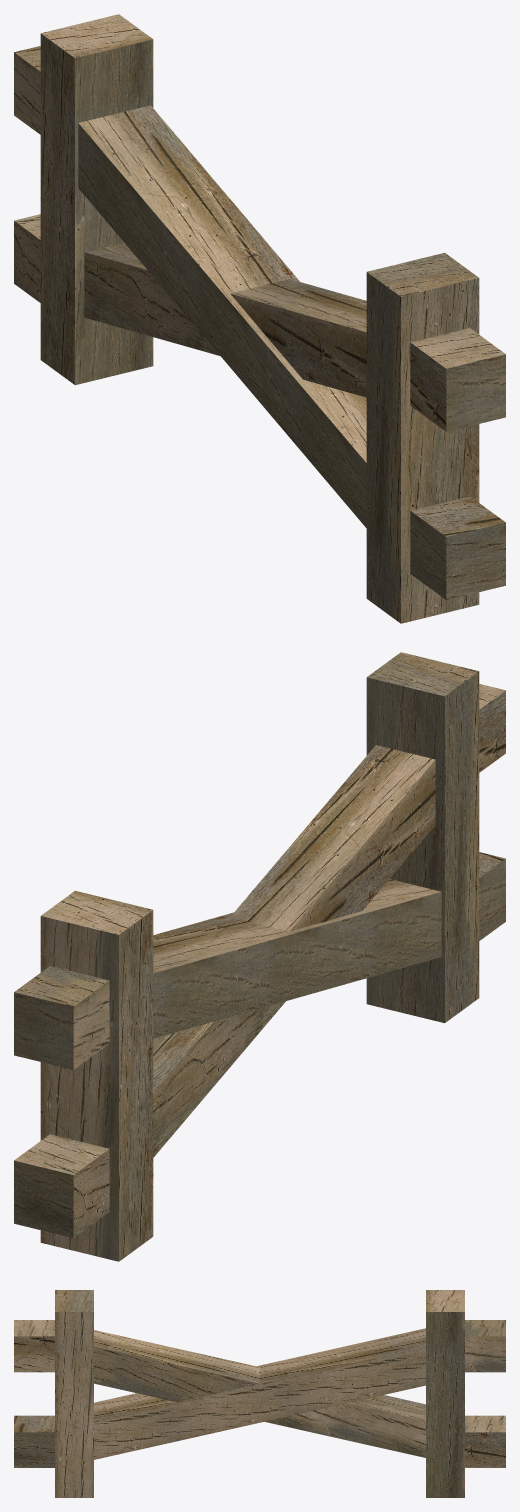
File: Забор из бруса.fbx
3 renders of one model, top to bottom at view 1: azimuth 30°, elevation 25°; view 2: azimuth 150°, elevation 25°; view 3: azimuth 270°, elevation 25°, orthographic. The views are drawn at different scales.
Visible parts, largest first — view 1: Забор дерево; view 2: Забор дерево; view 3: Забор дерево.
Part boxes in pixels (left/top/right/bottom): Забор дерево: left=14, top=14, right=505, bottom=623; Забор дерево: left=14, top=652, right=505, bottom=1261; Забор дерево: left=14, top=1290, right=505, bottom=1497.
Bounding box in the file's own units: 0.1839 × 0.7336 × 1.76.
1 material, 1 textured.
